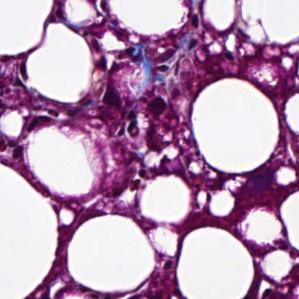inflammation: (150, 45, 182, 76), (125, 166, 153, 192)
